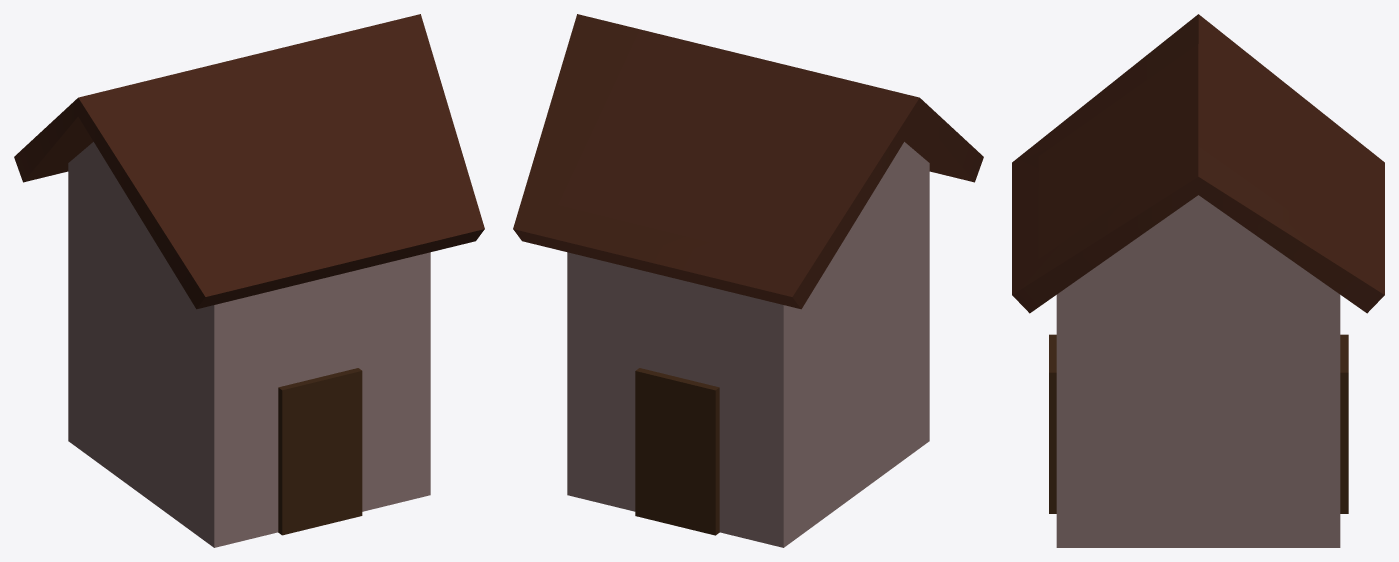
The model's file is House_DoorwaySide.fbx.
3 renders of one model, left to right at view 1: azimuth 30°, elevation 25°; view 2: azimuth 150°, elevation 25°; view 3: azimuth 270°, elevation 25°, orthographic. The views are drawn at different scales.
Visible parts, largest first — view 1: House_DoorwaySide; view 2: House_DoorwaySide; view 3: House_DoorwaySide.
Part boxes in pixels (<box>): House_DoorwaySide: <box>14,14,484,547</box>; House_DoorwaySide: <box>513,14,983,547</box>; House_DoorwaySide: <box>1012,14,1384,547</box>.
Size of the model in its own units: 19.58 by 22.54 by 18.97.
